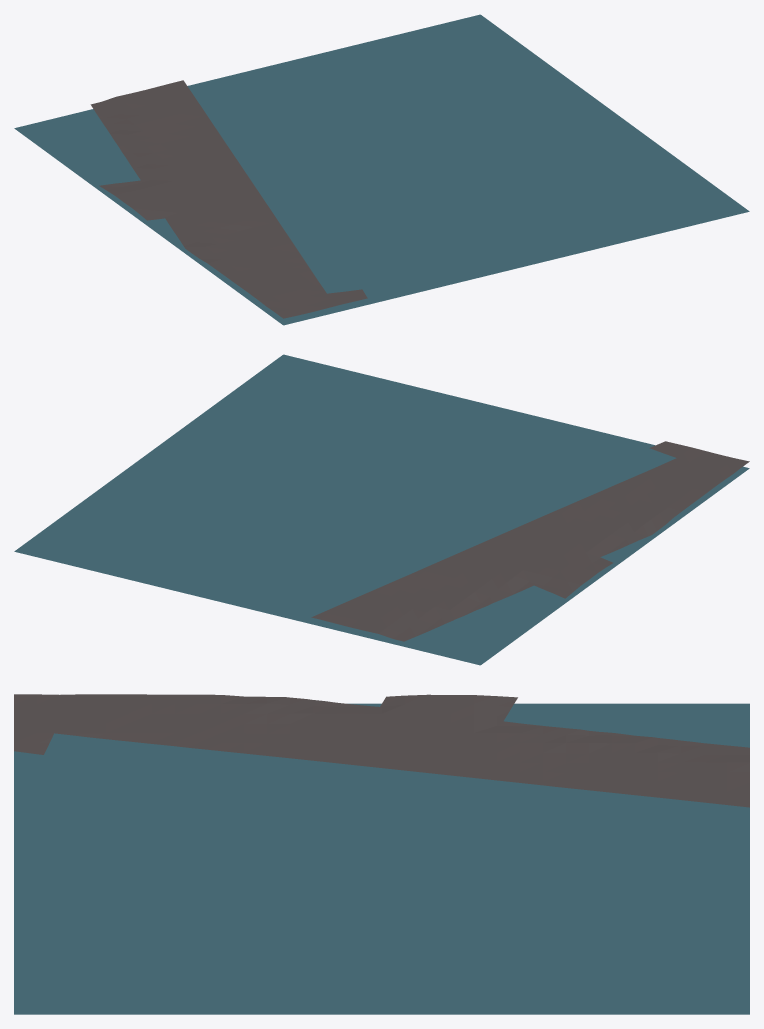
3 renders of one model, top to bottom at view 1: azimuth 30°, elevation 25°; view 2: azimuth 150°, elevation 25°; view 3: azimuth 270°, elevation 25°, orthographic. The views are drawn at different scales.
Parts seen in each view (by area): view 1: c_p04_m02; view 2: c_p04_m02; view 3: c_p04_m02.
Boxes of the visible parts, left/top/right/bottom form: c_p04_m02: left=14, top=14, right=749, bottom=325; c_p04_m02: left=14, top=354, right=749, bottom=665; c_p04_m02: left=14, top=694, right=749, bottom=1014.
Bounding box in the file's own units: 128 × 1.9 × 128.
